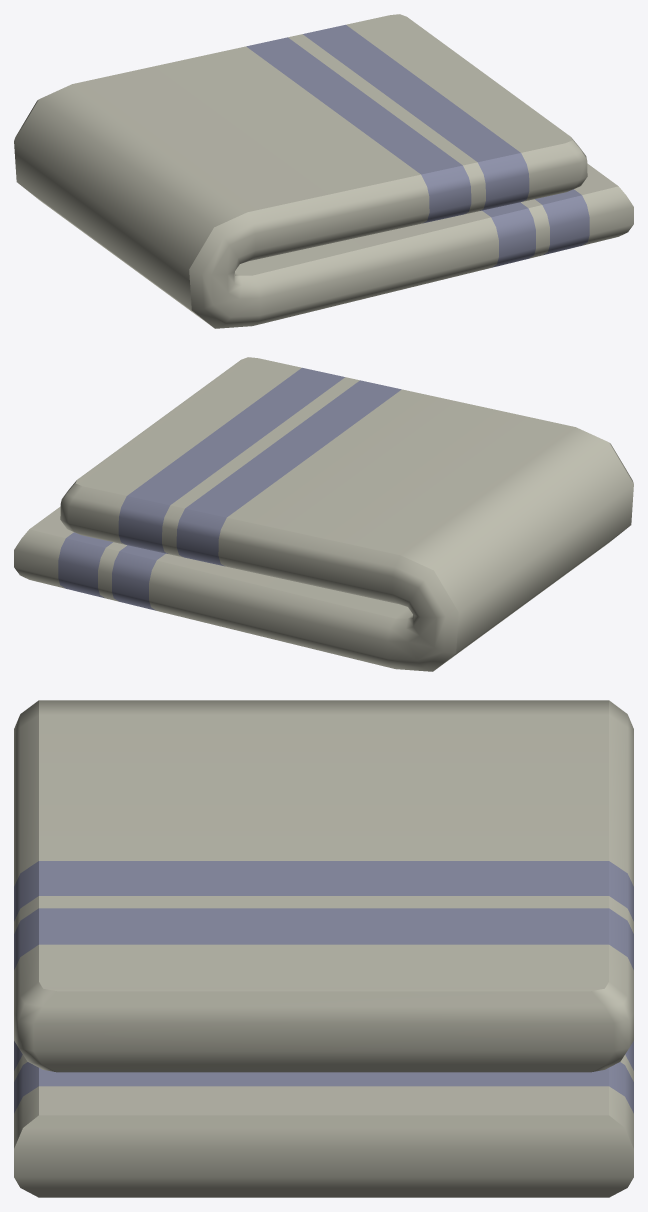
The model's file is Towel.fbx.
3 renders of one model, top to bottom at view 1: azimuth 30°, elevation 25°; view 2: azimuth 150°, elevation 25°; view 3: azimuth 270°, elevation 25°, orthographic. The views are drawn at different scales.
Parts seen in each view (by area): view 1: Towel; view 2: Towel; view 3: Towel.
Boxes of the visible parts, bbox=[...] form: Towel: bbox=[14, 14, 633, 328]; Towel: bbox=[14, 357, 633, 671]; Towel: bbox=[14, 700, 633, 1197].
Size of the model in its own units: 61.86 by 15.56 by 46.66.
